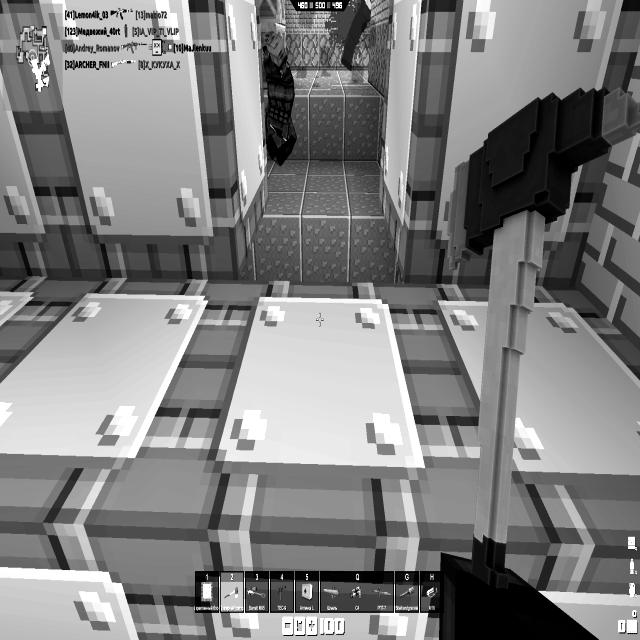Head: (302, 583, 312, 600)
Player: (260, 23, 297, 167), (339, 2, 374, 72)
